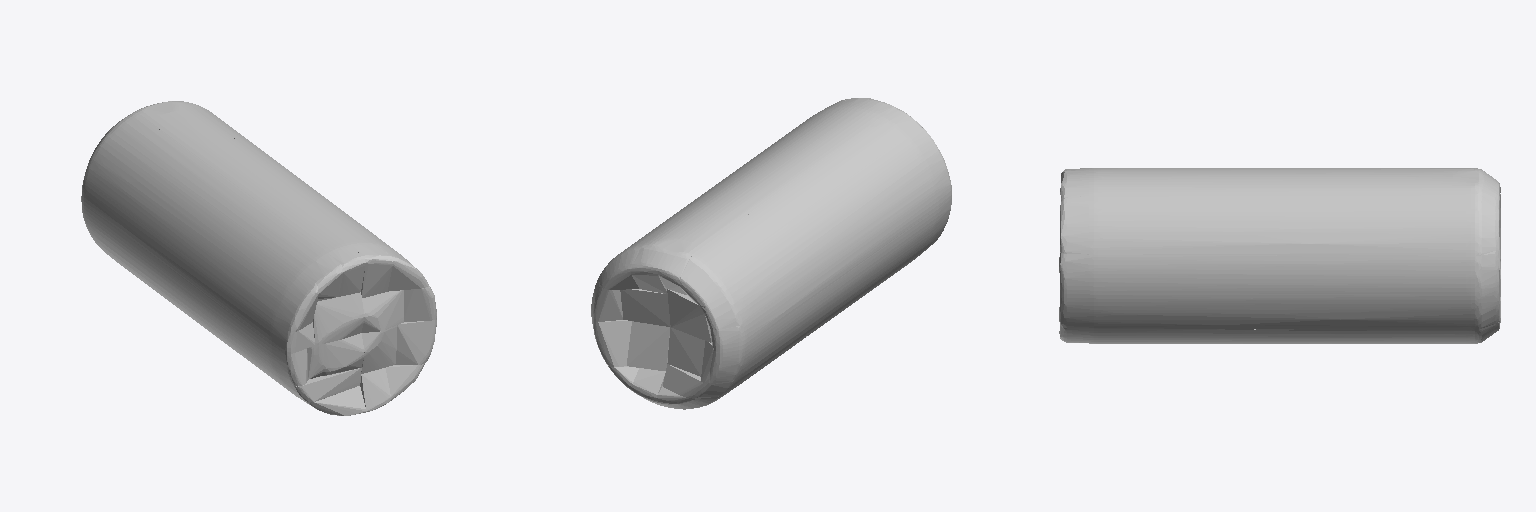
The model's file is coacd_collision.obj.
The picture shows the model from 3 angles: view 1: azimuth 30°, elevation 25°; view 2: azimuth 150°, elevation 25°; view 3: azimuth 270°, elevation 25°; orthographic projection.
Parts seen in each view (by area): view 1: geometry_8, geometry_16, geometry_17, geometry_15, geometry_0, geometry_2, geometry_6, geometry_7, geometry_11, geometry_13, geometry_3, geometry_12 (+5 smaller); view 2: geometry_8, geometry_16, geometry_17, geometry_15, geometry_0, geometry_2, geometry_7, geometry_6, geometry_10, geometry_3, geometry_13, geometry_11 (+4 smaller); view 3: geometry_6, geometry_9, geometry_13, geometry_2, geometry_4, geometry_15.
Part boxes in pixels (left/top/right/bottom): geometry_8: left=84, top=133, right=318, bottom=331; geometry_16: left=101, top=112, right=343, bottom=301; geometry_17: left=81, top=200, right=307, bottom=386; geometry_15: left=135, top=104, right=365, bottom=296; geometry_0: left=81, top=172, right=314, bottom=353; geometry_2: left=157, top=101, right=392, bottom=297; geometry_6: left=186, top=102, right=428, bottom=291; geometry_7: left=91, top=235, right=361, bottom=402; geometry_11: left=313, top=292, right=363, bottom=344; geometry_13: left=395, top=319, right=436, bottom=364; geometry_3: left=361, top=290, right=403, bottom=332; geometry_12: left=321, top=333, right=364, bottom=375; geometry_8: left=705, top=127, right=948, bottom=329; geometry_16: left=679, top=109, right=922, bottom=307; geometry_17: left=710, top=197, right=951, bottom=383; geometry_15: left=658, top=100, right=897, bottom=294; geometry_0: left=710, top=174, right=951, bottom=351; geometry_2: left=631, top=98, right=873, bottom=293; geometry_7: left=663, top=230, right=943, bottom=398; geometry_6: left=599, top=99, right=846, bottom=289; geometry_10: left=627, top=321, right=669, bottom=370; geometry_3: left=620, top=289, right=670, bottom=326; geometry_13: left=591, top=313, right=631, bottom=366; geometry_11: left=667, top=289, right=711, bottom=342; geometry_6: left=1060, top=193, right=1499, bottom=255; geometry_9: left=1059, top=249, right=1499, bottom=293; geometry_13: left=1059, top=287, right=1499, bottom=329; geometry_2: left=1060, top=176, right=1499, bottom=209; geometry_4: left=1059, top=322, right=1499, bottom=343; geometry_15: left=1061, top=168, right=1499, bottom=189.
Size of the model in its own units: 55.4 by 54.66 by 137.